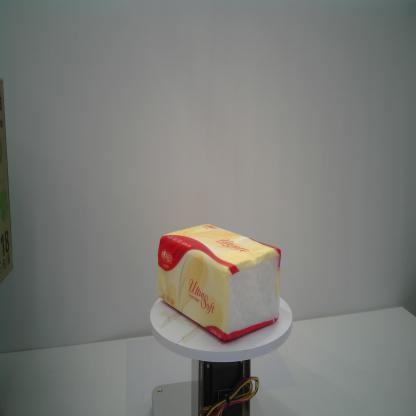Tissue: (154, 223, 283, 342)
